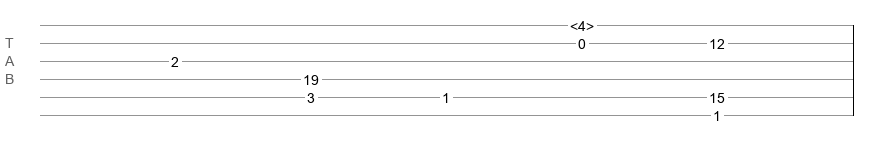0: (578, 36, 586, 46)
1: (442, 90, 450, 100), (713, 108, 721, 118)
12: (709, 36, 725, 46)
15: (709, 90, 725, 100)
19: (303, 72, 319, 82)
2: (171, 54, 179, 64)
3: (307, 90, 315, 100)
harmonic: (570, 18, 594, 28)
